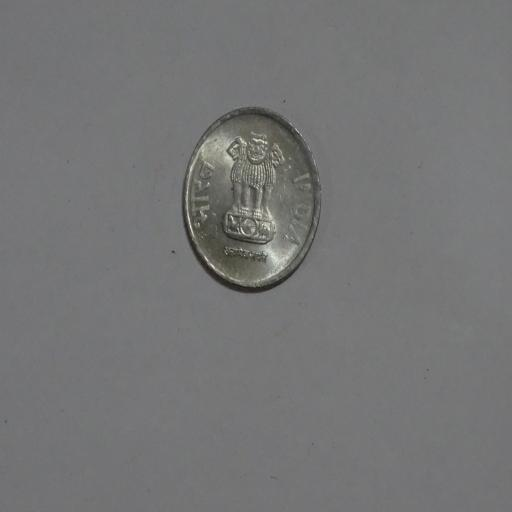rupee1: (182, 105, 324, 296)
